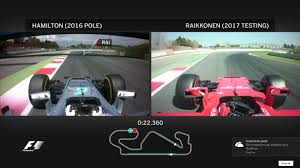f1_car: (153, 70, 300, 117), (26, 70, 140, 115)
